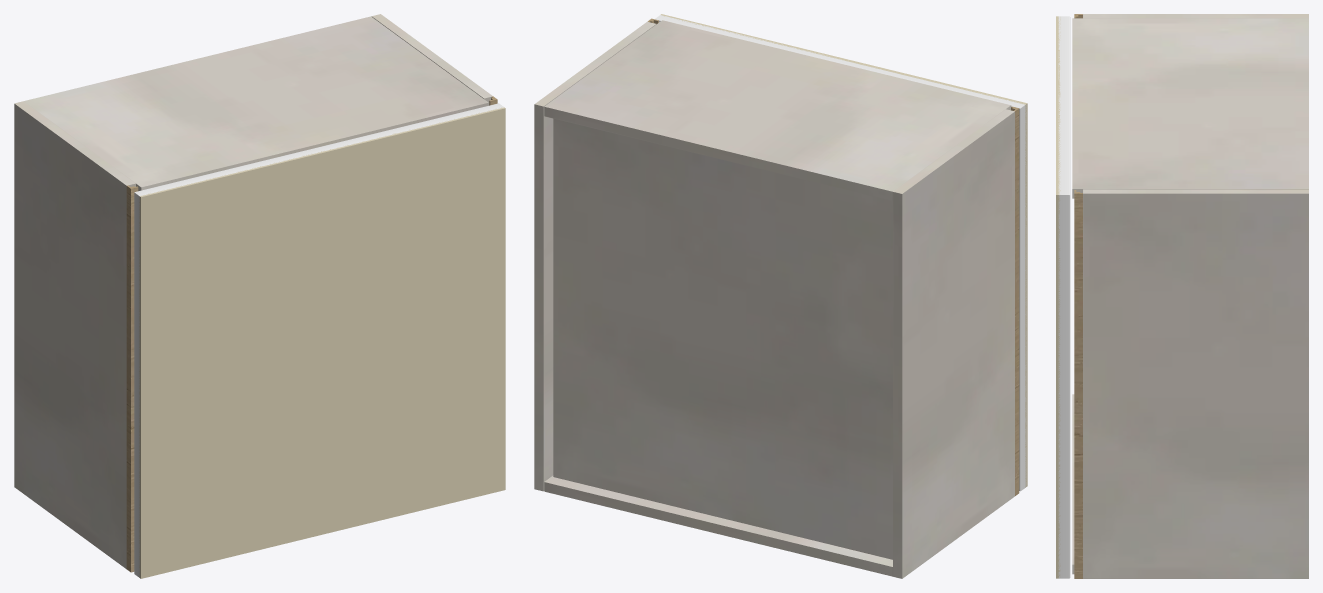
The model's file is WALL LOFT CABINET 1 SHELF (H600xW600xD336) WLC1S1HS_RH.glb.
3 renders of one model, left to right at view 1: azimuth 30°, elevation 25°; view 2: azimuth 150°, elevation 25°; view 3: azimuth 270°, elevation 25°, orthographic.
Size of what is drawn, in the model's own units: 0.6 by 0.6 by 0.3569.
Materials: 6 (2 with a texture image).
